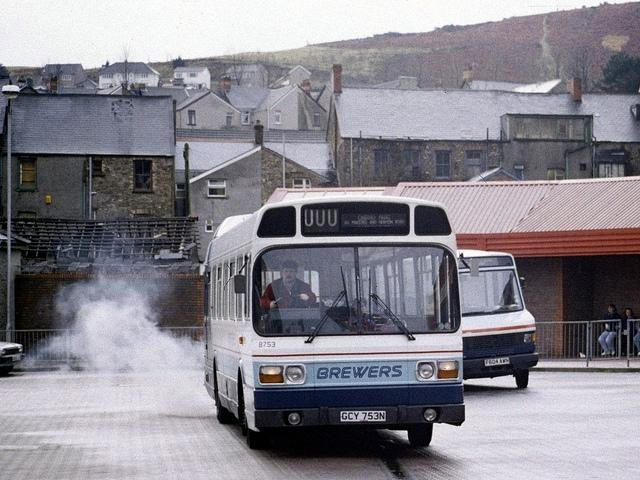bus: (208, 188, 467, 452)
car: (0, 340, 24, 376)
truck: (462, 250, 542, 393)
